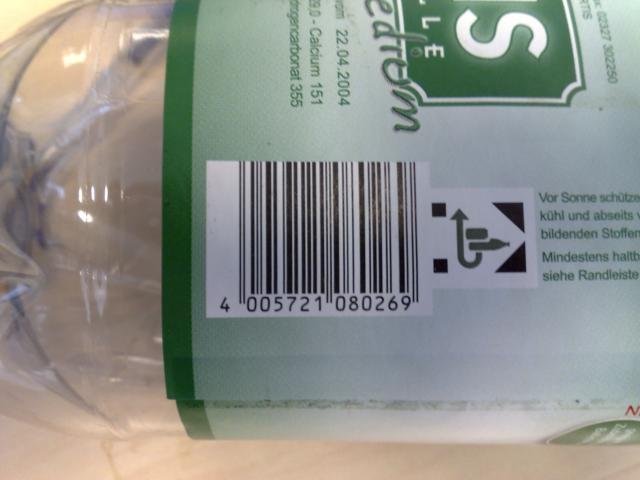Barkod: (235, 157, 417, 292)
